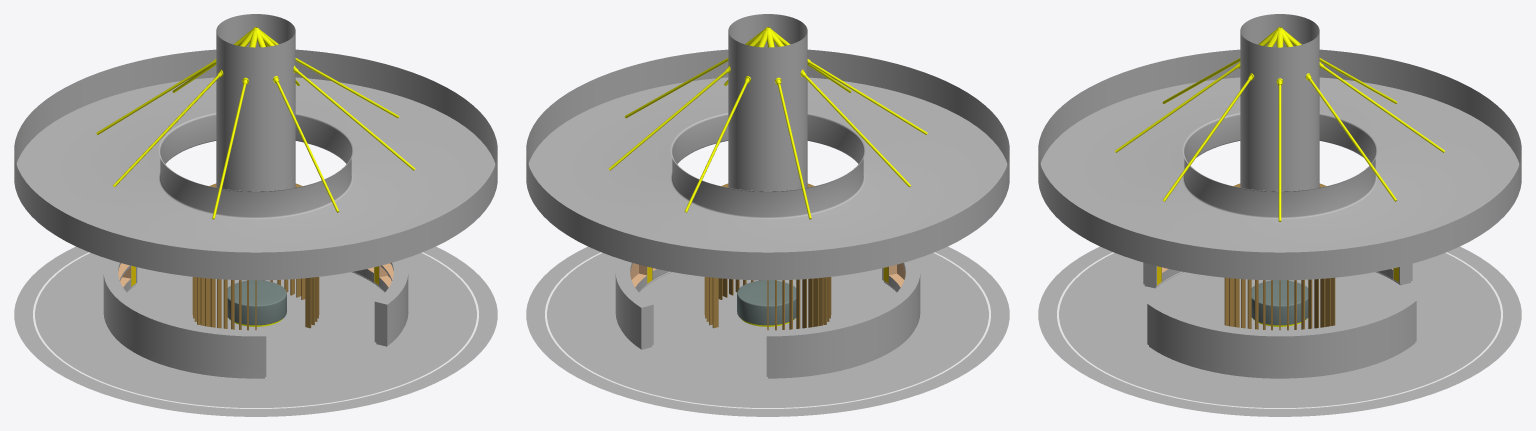
Rendered from bagroom08.glb.
The picture shows the model from 3 angles, left to right: view 1: azimuth 30°, elevation 25°; view 2: azimuth 150°, elevation 25°; view 3: azimuth 270°, elevation 25°; orthographic projection.
Parts seen in each view (by area): view 1: roof, floor, main_tank, etagere_02, wood_structure, etagere_01, Cylinder003, Line005, Line007, Line010, Line006, Line009 (+1 smaller); view 2: roof, floor, main_tank, etagere_02, wood_structure, etagere_01, Cylinder003, Line005, Line008, Line009, Line004, Line010 (+1 smaller); view 3: roof, floor, etagere_01, main_tank, wood_structure, Cylinder003, etagere_02, Line001, Line007, Line008, Line004, Line006.
Boxes of the visible parts, bbox=[...] form: roof: bbox=[14, 49, 497, 280]; floor: bbox=[14, 246, 497, 416]; main_tank: bbox=[216, 14, 295, 191]; etagere_02: bbox=[103, 258, 266, 378]; wood_structure: bbox=[192, 183, 319, 330]; etagere_01: bbox=[352, 258, 408, 346]; Cylinder003: bbox=[227, 280, 286, 326]; Line005: bbox=[113, 28, 256, 187]; Line007: bbox=[256, 27, 415, 170]; Line010: bbox=[212, 28, 258, 219]; Line006: bbox=[254, 28, 339, 212]; Line009: bbox=[96, 27, 254, 134]; roof: bbox=[526, 49, 1009, 280]; floor: bbox=[526, 246, 1009, 416]; main_tank: bbox=[728, 14, 807, 191]; etagere_02: bbox=[766, 258, 920, 378]; wood_structure: bbox=[704, 183, 831, 330]; etagere_01: bbox=[615, 258, 671, 349]; Cylinder003: bbox=[737, 280, 796, 326]; Line005: bbox=[767, 28, 910, 187]; Line008: bbox=[608, 27, 767, 170]; Line009: bbox=[765, 28, 811, 219]; Line004: bbox=[684, 28, 769, 212]; Line010: bbox=[769, 27, 927, 134]; roof: bbox=[1038, 49, 1521, 280]; floor: bbox=[1038, 246, 1521, 416]; etagere_01: bbox=[1147, 298, 1416, 378]; main_tank: bbox=[1240, 14, 1319, 191]; wood_structure: bbox=[1224, 183, 1335, 330]; Cylinder003: bbox=[1251, 280, 1308, 326]; etagere_02: bbox=[1143, 262, 1412, 288]; Line001: bbox=[1276, 28, 1283, 221]; Line007: bbox=[1162, 28, 1280, 201]; Line008: bbox=[1279, 28, 1397, 201]; Line004: bbox=[1281, 28, 1444, 152]; Line006: bbox=[1115, 28, 1278, 152].
Bounding box in the file's own units: 20 × 13.11 × 19.99.
